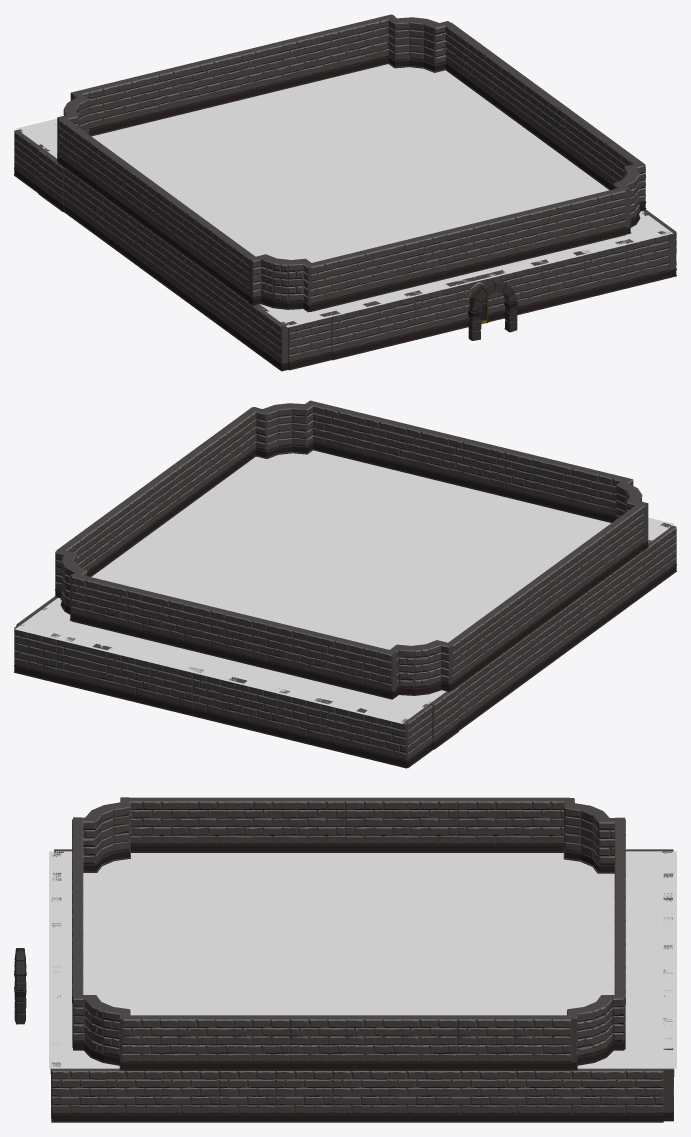
The model's file is hologram.glb.
The picture shows the model from 3 angles, top to bottom: view 1: azimuth 30°, elevation 25°; view 2: azimuth 150°, elevation 25°; view 3: azimuth 270°, elevation 25°; orthographic projection. The views are drawn at different scales.
Visible parts, largest first — view 1: Plane, Module_Stone_Curve_02.001, Module_Stone_Curve_02.002, Module_Stone_Straight_01.052, Module_Stone_Straight_01.050, Module_Stone_Straight_01.069, Module_Stone_Straight_01.065, Module_Stone_Straight_01.067, Module_Stone_Straight_01.068, Module_Stone_Straight_01.051, Module_Stone_Straight_01.053, Module_Stone_Straight_01.054 (+46 smaller); view 2: Plane, Module_Stone_Curve_02.003, Module_Stone_Curve_02, Module_Stone_Straight_01.022, Module_Stone_Straight_01.049, Module_Stone_Straight_01.050, Module_Stone_Straight_01.067, Module_Stone_Straight_01.051, Module_Stone_Straight_01.068, Module_Stone_Straight_01.069, Module_Stone_Straight_01.054, Module_Stone_Straight_01.052 (+46 smaller); view 3: Plane, Module_Stone_Curve_02.002, Module_Stone_Straight_01.011, Module_Stone_Straight_01.047, Module_Stone_Straight_01.058, Module_Stone_Straight_01.046, Module_Stone_Straight_01.060, Module_Stone_Straight_01.041, Module_Stone_Straight_01.059, Module_Stone_Straight_01.043, Module_Stone_Straight_01.061, Module_Stone_Straight_01.044 (+22 smaller).
Boxes of the visible parts, bbox=[...] form: Plane: bbox=[16, 64, 673, 327]; Module_Stone_Curve_02.001: bbox=[248, 254, 315, 312]; Module_Stone_Curve_02.002: bbox=[386, 14, 449, 72]; Module_Stone_Straight_01.052: bbox=[223, 45, 269, 103]; Module_Stone_Straight_01.050: bbox=[306, 25, 352, 82]; Module_Stone_Straight_01.069: bbox=[414, 228, 460, 285]; Module_Stone_Straight_01.065: bbox=[580, 187, 625, 245]; Module_Stone_Straight_01.067: bbox=[498, 207, 543, 265]; Module_Stone_Straight_01.068: bbox=[456, 217, 501, 275]; Module_Stone_Straight_01.051: bbox=[265, 35, 310, 92]; Module_Stone_Straight_01.053: bbox=[182, 55, 227, 113]; Module_Stone_Straight_01.054: bbox=[141, 65, 187, 123]; Plane: bbox=[15, 450, 674, 723]; Module_Stone_Curve_02.003: bbox=[252, 400, 313, 458]; Module_Stone_Curve_02: bbox=[387, 640, 452, 697]; Module_Stone_Straight_01.022: bbox=[349, 641, 396, 699]; Module_Stone_Straight_01.049: bbox=[71, 573, 118, 631]; Module_Stone_Straight_01.050: bbox=[113, 584, 159, 641]; Module_Stone_Straight_01.067: bbox=[393, 422, 439, 479]; Module_Stone_Straight_01.051: bbox=[155, 594, 201, 651]; Module_Stone_Straight_01.068: bbox=[434, 432, 481, 490]; Module_Stone_Straight_01.069: bbox=[476, 442, 522, 500]; Module_Stone_Straight_01.054: bbox=[279, 624, 325, 681]; Module_Stone_Straight_01.052: bbox=[196, 604, 243, 661]; Plane: bbox=[49, 851, 676, 1068]; Module_Stone_Curve_02.002: bbox=[567, 995, 624, 1070]; Module_Stone_Straight_01.011: bbox=[514, 1015, 571, 1070]; Module_Stone_Straight_01.047: bbox=[457, 1015, 514, 1070]; Module_Stone_Straight_01.058: bbox=[457, 797, 514, 852]; Module_Stone_Straight_01.046: bbox=[401, 1015, 457, 1070]; Module_Stone_Straight_01.060: bbox=[345, 797, 402, 852]; Module_Stone_Straight_01.041: bbox=[122, 1015, 179, 1070]; Module_Stone_Straight_01.059: bbox=[401, 797, 457, 852]; Module_Stone_Straight_01.043: bbox=[233, 1015, 289, 1070]; Module_Stone_Straight_01.061: bbox=[288, 797, 345, 852]; Module_Stone_Straight_01.044: bbox=[290, 1015, 346, 1070].
Bounding box in the file's own units: 3.71 × 0.8045 × 4.67.
79 materials, 79 textured.
